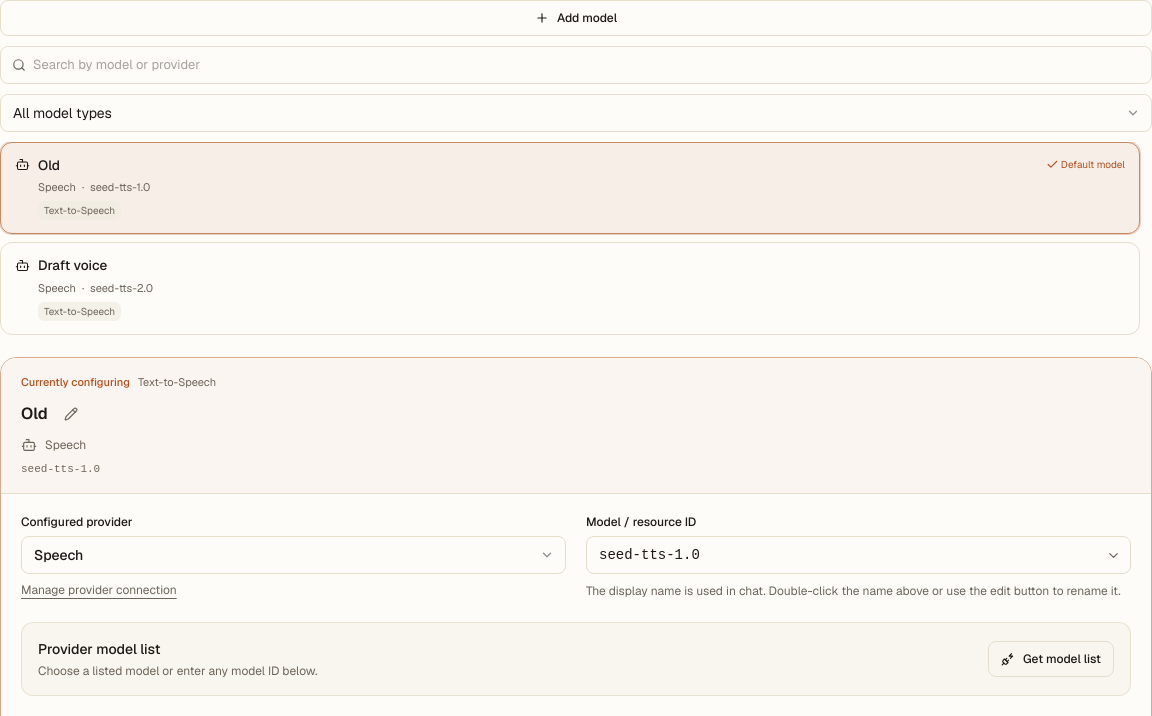
switching model updates an incompatible preset voice and clears unsupported instructions
Click the button "Draft voice Speech · seed-tts-2.0 Text-to-Speech" at coordinates (73, 265), box [0,242,1140,335]
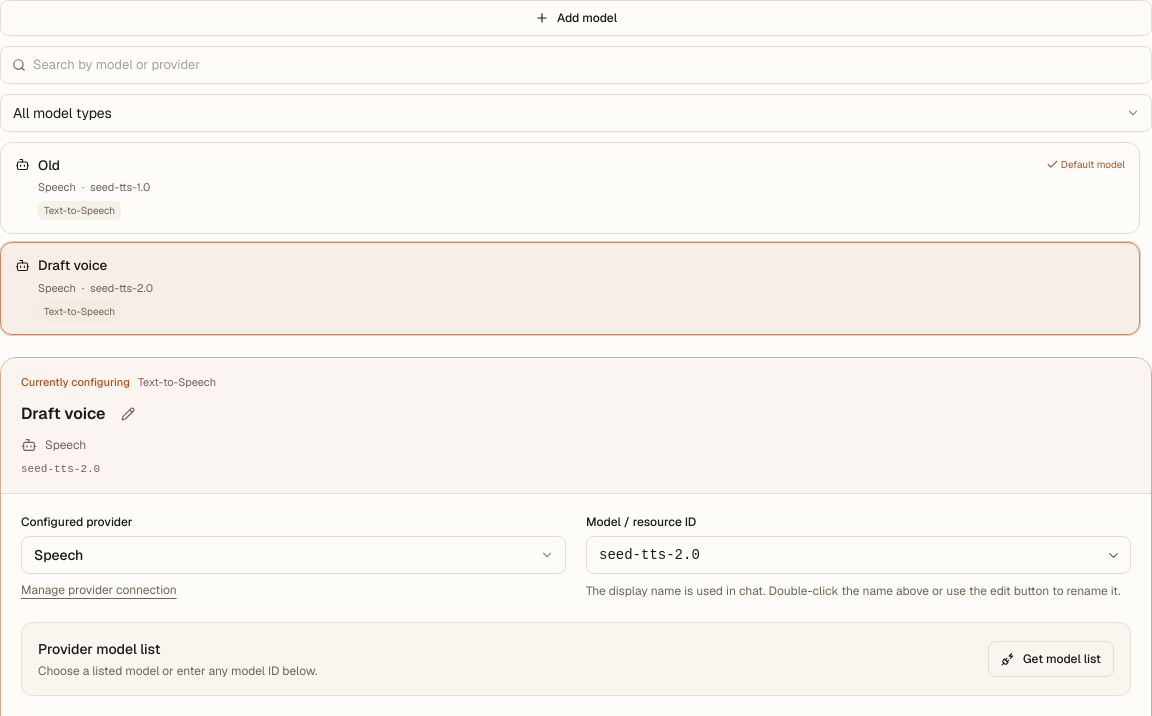
Replace the text in the dropdown labelled "Model / resource ID" with "seed-tts-1.0" at coordinates (858, 555), box [586,536,1131,574]
(page scrolled)
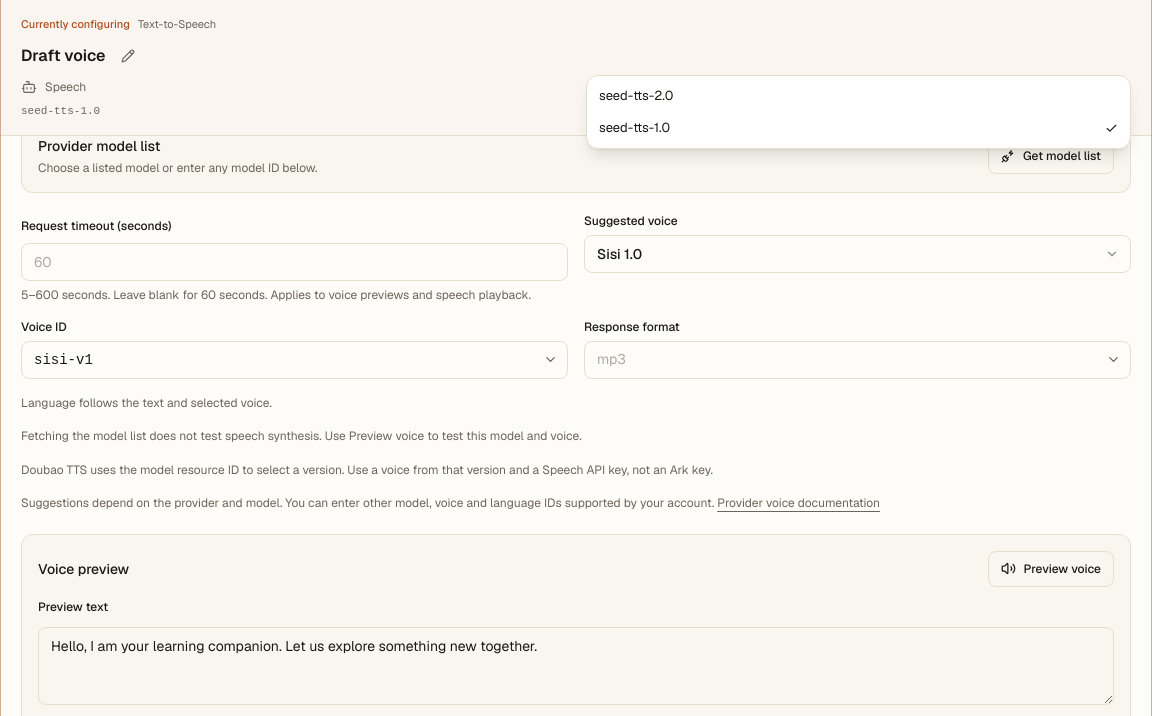
Check: the dropdown labelled "Voice ID" holds "sisi-v1", box [21,340,568,378]
